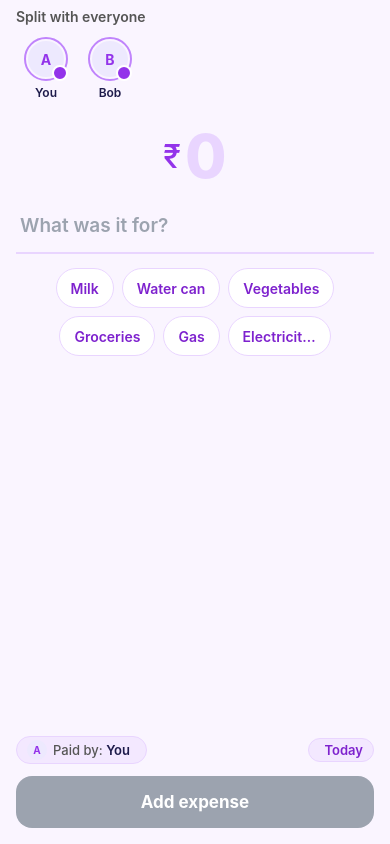
it: AddGroceryScreen paid by › adds the admin back when they switch the payer back to themselves
Expected: the text "Split with everyone" is shown, [16,8,146,25]
Step 1. Click the element named "Paid by You" → (82, 750), box [16,736,147,764]
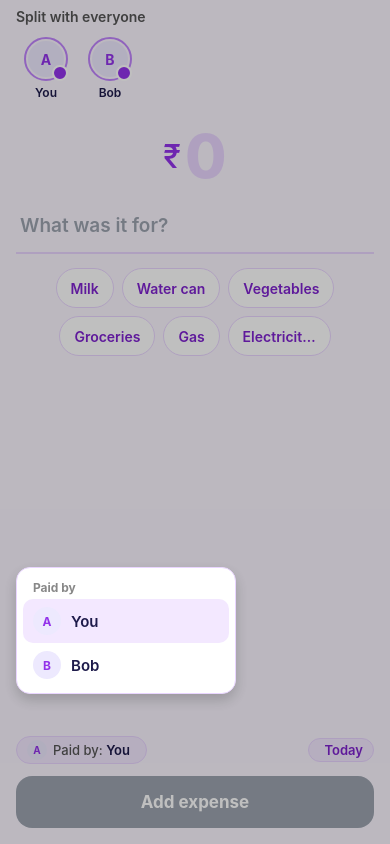
Step 2. Click the text "Bob" → (85, 665), box [71,656,99,674]
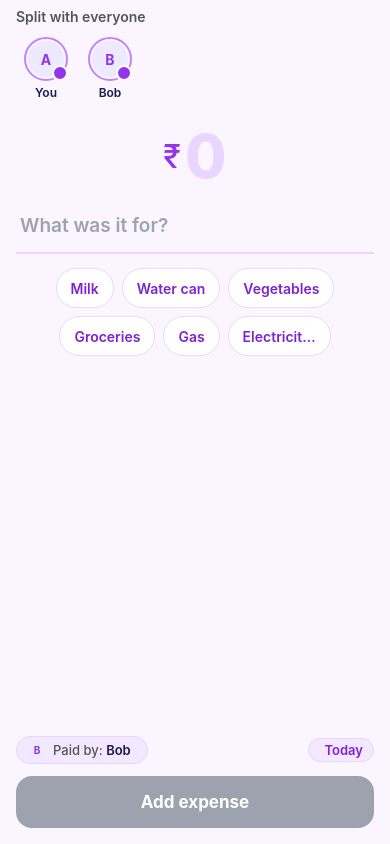
Step 3. Click the checkbox labelled "You" → (46, 68), box [24,37,68,100]
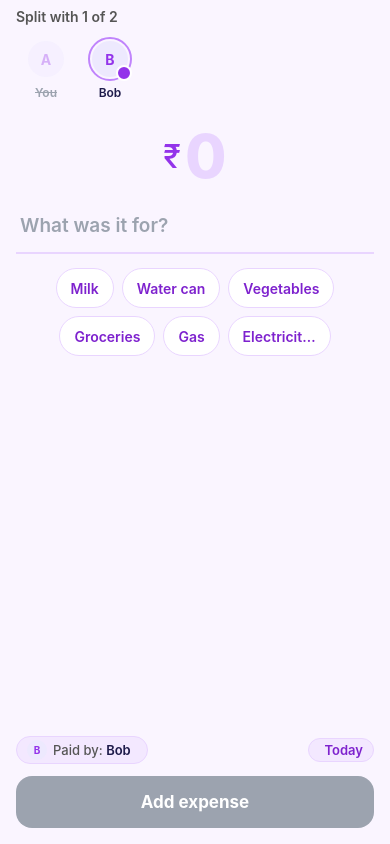
Result: the text "Split with 1 of 2" is shown at [16,8,118,25]
Step 4. Click the element named "Paid by Bob" → (82, 750), box [16,736,148,764]
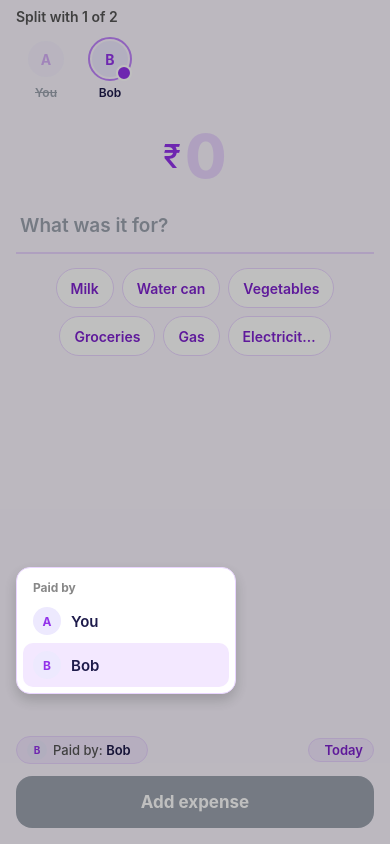
Step 5. Click the text "You" → (85, 621), box [71,612,98,630]
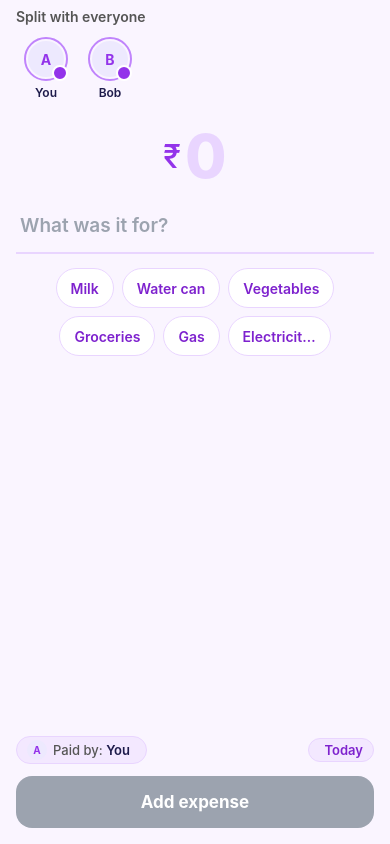
Result: the text "Split with everyone" is shown at [16,8,146,25]
